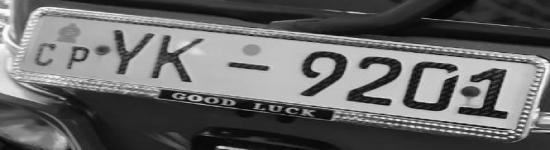-: (222, 59, 277, 75)
0: (404, 59, 460, 113)
1: (457, 64, 521, 124)
2: (349, 54, 405, 107)
9: (296, 49, 349, 100)
C: (30, 41, 62, 66)
K: (149, 34, 208, 84)
P: (103, 28, 155, 76), (65, 46, 95, 71)
